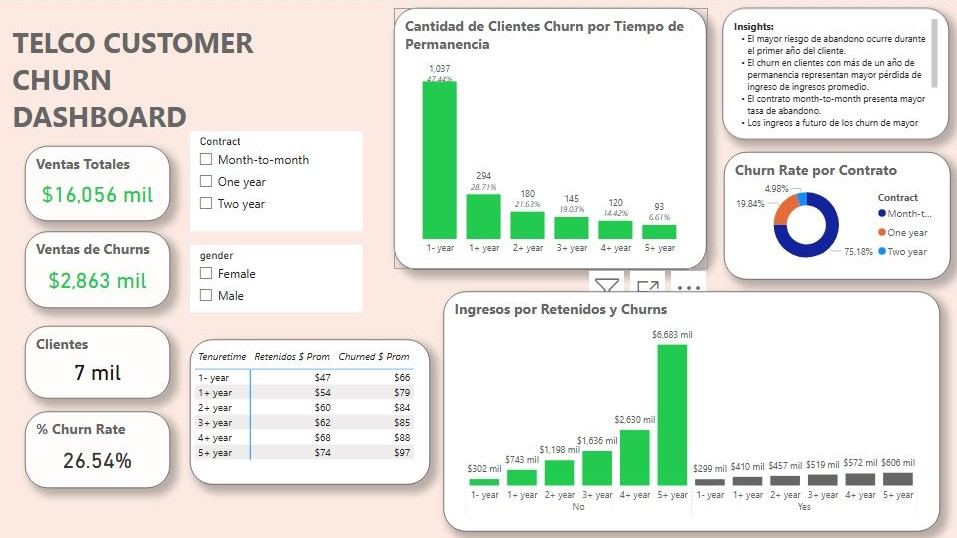

Layout of this report page (visuals, bound fields, positions):
{"tool":"powerbi","page":{"name":"Dashboard","canvas":[1280,720],"ordinal":0},"visuals":[{"type":"textbox","box":[13.3,25,371.7,170],"z":0},{"type":"card","title":"Ventas Totales","fields":{"Values":["Telco-Customer-Churn.TotalSales"]},"box":[36.7,195,193.3,100],"z":1000},{"type":"donutChart","title":"Churn Rate por Contrato","fields":{"Category":["Telco-Customer-Churn.Contract"],"Y":["Telco-Customer-Churn.Porcentaje Churned Customers"]},"box":[967.1,203.6,302.2,170.2],"z":2000},{"type":"card","title":"Ventas de Churns","fields":{"Values":["Telco-Customer-Churn.ChurnedIngresos"]},"box":[36.7,310,193.3,101.7],"z":3000},{"type":"card","title":"Clientes","fields":{"Values":["Telco-Customer-Churn.Cantidad de Clientes"]},"box":[36.7,435,193.3,96.7],"z":4000},{"type":"card","title":"% Churn Rate","fields":{"Values":["Telco-Customer-Churn.% Churn Rate"]},"box":[36.7,550,193.3,101.7],"z":5000},{"type":"clusteredColumnChart","title":"Cantidad de Clientes Churn por Tiempo de Permanencia","fields":{"Y":["Telco-Customer-Churn.Cantidad de Clientes"],"Category":["Telco-Customer-Churn.Tenuretime"]},"box":[528.3,11.7,416.7,348.3],"z":6000},{"type":"slicer","fields":{"Values":["Telco-Customer-Churn.Contract"]},"box":[255,176.7,230,133.3],"z":7000},{"type":"slicer","fields":{"Values":["Telco-Customer-Churn.gender"]},"box":[255,328.3,230,90],"z":8000},{"type":"textbox","box":[966.7,11.7,301.7,175],"z":9000},{"type":"clusteredColumnChart","title":"Ingresos por Retenidos y Churns","fields":{"Category":["Telco-Customer-Churn.Churn","Telco-Customer-Churn.Tenuretime"],"Y":["Telco-Customer-Churn.TotalSales"]},"box":[593.3,390,661.7,320],"z":10000},{"type":"pivotTable","fields":{"Values":["Telco-Customer-Churn.Retenidos Ingreso Promedio","Telco-Customer-Churn.Churned Ingreso Promedio"],"Rows":["Telco-Customer-Churn.Tenuretime"]},"box":[255,453.3,320,193.3],"z":11000}]}

Visuals, with their boxes in screenshot pixels (x1, y1, x2, y2), scaled from the page's 1280x720 canvas onto the 957x538 screenshot:
textbox: region(10, 19, 288, 146)
"Ventas Totales" card: region(27, 146, 172, 220)
"Churn Rate por Contrato" donutChart: region(723, 152, 949, 279)
"Ventas de Churns" card: region(27, 232, 172, 308)
"Clientes" card: region(27, 325, 172, 397)
"% Churn Rate" card: region(27, 411, 172, 487)
"Cantidad de Clientes Churn por Tiempo de Permanencia" clusteredColumnChart: region(395, 9, 707, 269)
slicer - Telco-Customer-Churn.Contract: region(191, 132, 363, 232)
slicer - Telco-Customer-Churn.gender: region(191, 245, 363, 313)
textbox: region(723, 9, 948, 140)
"Ingresos por Retenidos y Churns" clusteredColumnChart: region(444, 291, 938, 531)
pivotTable - Telco-Customer-Churn.Retenidos Ingreso Promedio x Telco-Customer-Churn.Churned Ingreso Promedio: region(191, 339, 430, 483)
